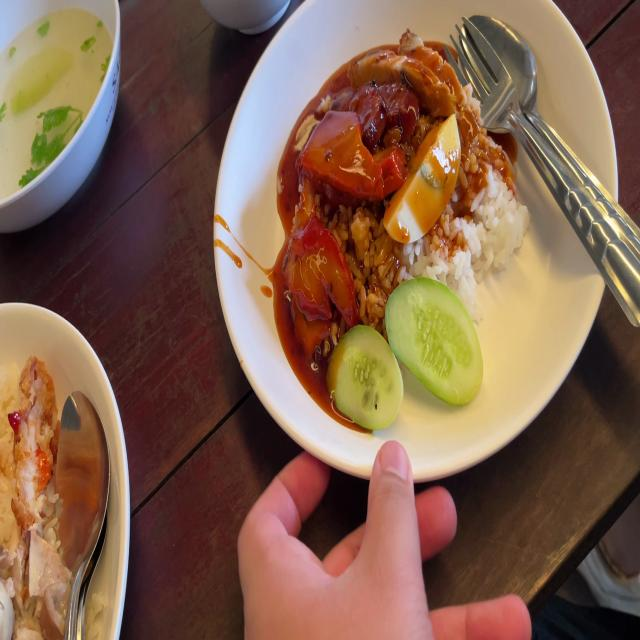boiled_chicken: (0, 527, 71, 640)
boiled_egg: (380, 115, 461, 239)
chainese_sausage: (337, 74, 413, 139)
chicken_rice: (0, 349, 83, 640)
crispy_pork: (364, 27, 482, 134)
cucumber: (385, 276, 483, 404), (327, 318, 406, 430)
fried_chicken: (7, 354, 58, 530)
red_pork: (299, 107, 399, 197), (287, 217, 347, 341)
red_pork_and_crispy_pork: (289, 26, 527, 433)
